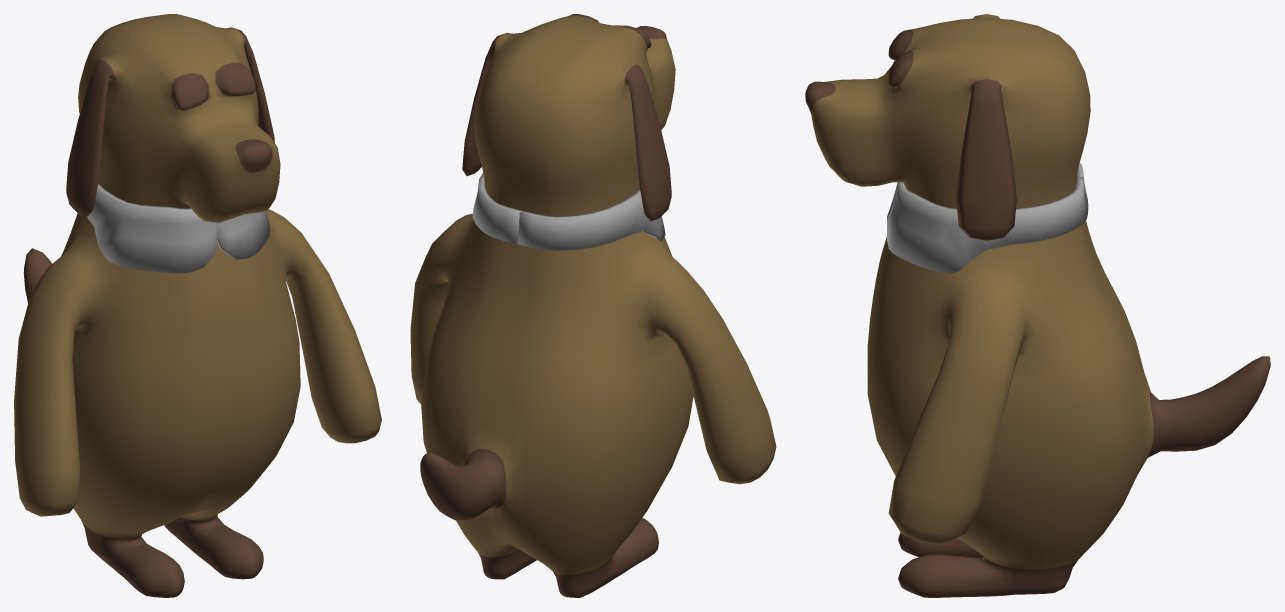
File: Dog.fbx
The picture shows the model from 3 angles, left to right: view 1: azimuth 30°, elevation 25°; view 2: azimuth 150°, elevation 25°; view 3: azimuth 270°, elevation 25°; orthographic projection. The views are drawn at different scales.
Visible parts, largest first — view 1: dog, collar; view 2: dog, collar; view 3: dog, collar.
Boxes of the visible parts, x1,y1,x2,y2 form: dog: [14, 14, 381, 597]; collar: [87, 184, 270, 273]; dog: [410, 14, 776, 597]; collar: [472, 173, 665, 250]; dog: [805, 14, 1270, 597]; collar: [887, 162, 1088, 273].
Size of the model in its own units: 82.09 by 120 by 93.7.
